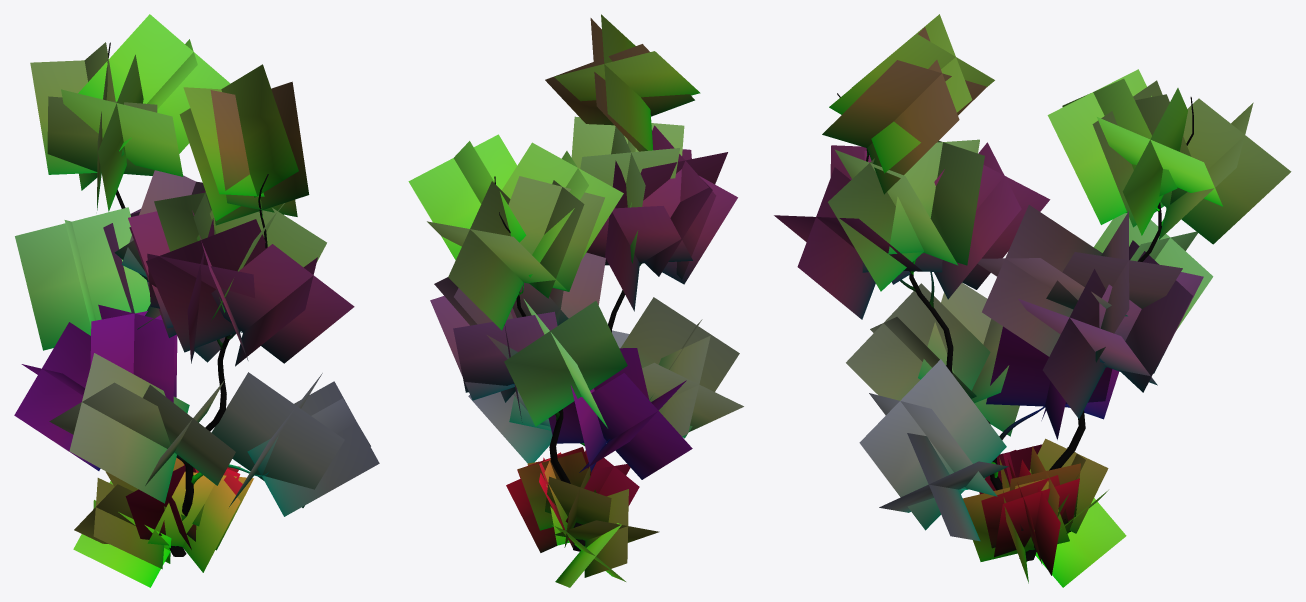
Rendered from URP_P12_Tree_7_LOD_0.fbx.
The picture shows the model from 3 angles, left to right: view 1: azimuth 30°, elevation 25°; view 2: azimuth 150°, elevation 25°; view 3: azimuth 270°, elevation 25°; orthographic projection. The views are drawn at different scales.
Visible parts, largest first — view 1: Tree_7_LOD_0; view 2: Tree_7_LOD_0; view 3: Tree_7_LOD_0.
Boxes of the visible parts, left/top/right/bottom form: Tree_7_LOD_0: left=14, top=14, right=379, bottom=587; Tree_7_LOD_0: left=408, top=14, right=743, bottom=587; Tree_7_LOD_0: left=774, top=14, right=1291, bottom=587.
Size of the model in its own units: 196 by 344 by 286.
